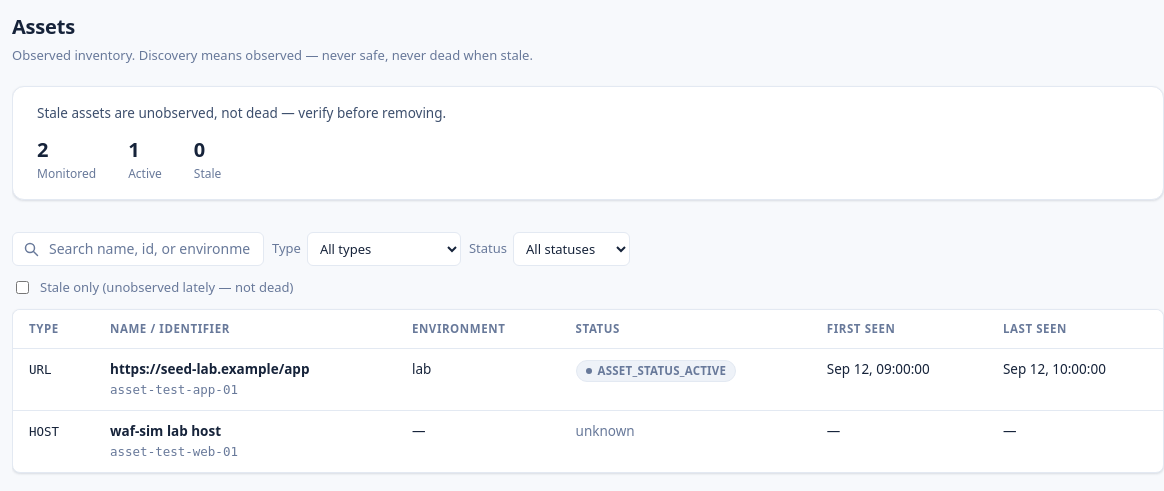
Scenario: Assets › searches and filters by type and status
The image size is (1164, 491).
expect the text "https://seed-lab.example/app" is shown: met, box [110,360,310,378]
In the field named "Search assets": (150, 249) [47,237,253,260], type "waf-sim"
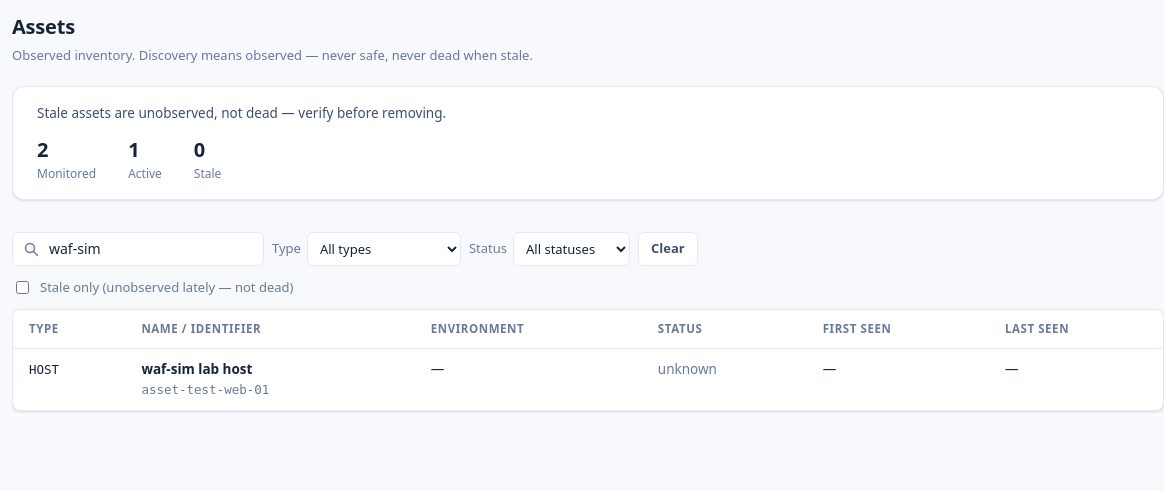
expect the text "https://seed-lab.example/app" is gone: met
Clear the field named "Search assets": (150, 249) [47,237,253,260]
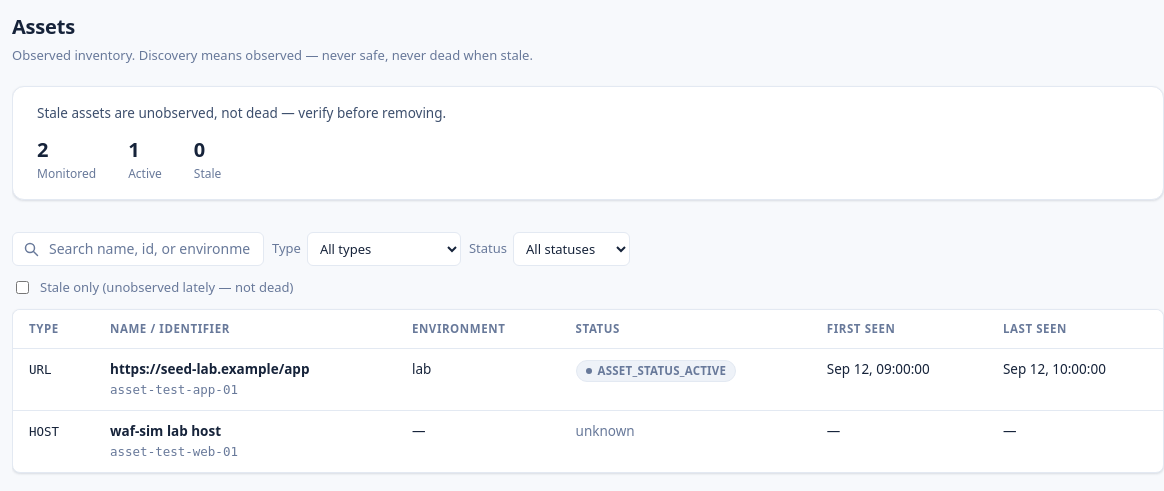
Select "URL" in the dropdown labelled "Type": (384, 249) [307,232,461,266]
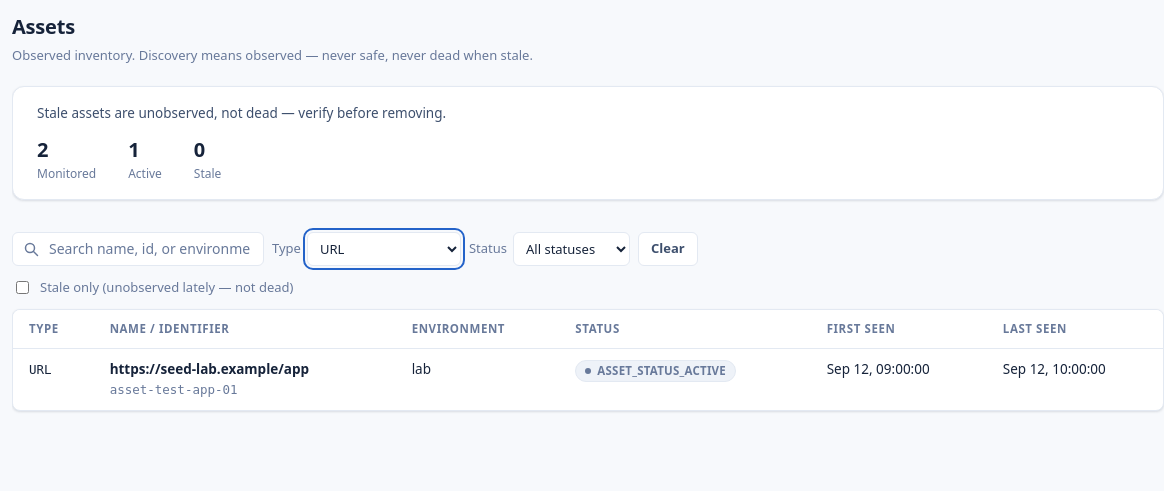
expect the text "https://seed-lab.example/app" is shown: met, box [110,360,309,378]
expect the text "waf-sim lab host" is gone: met
